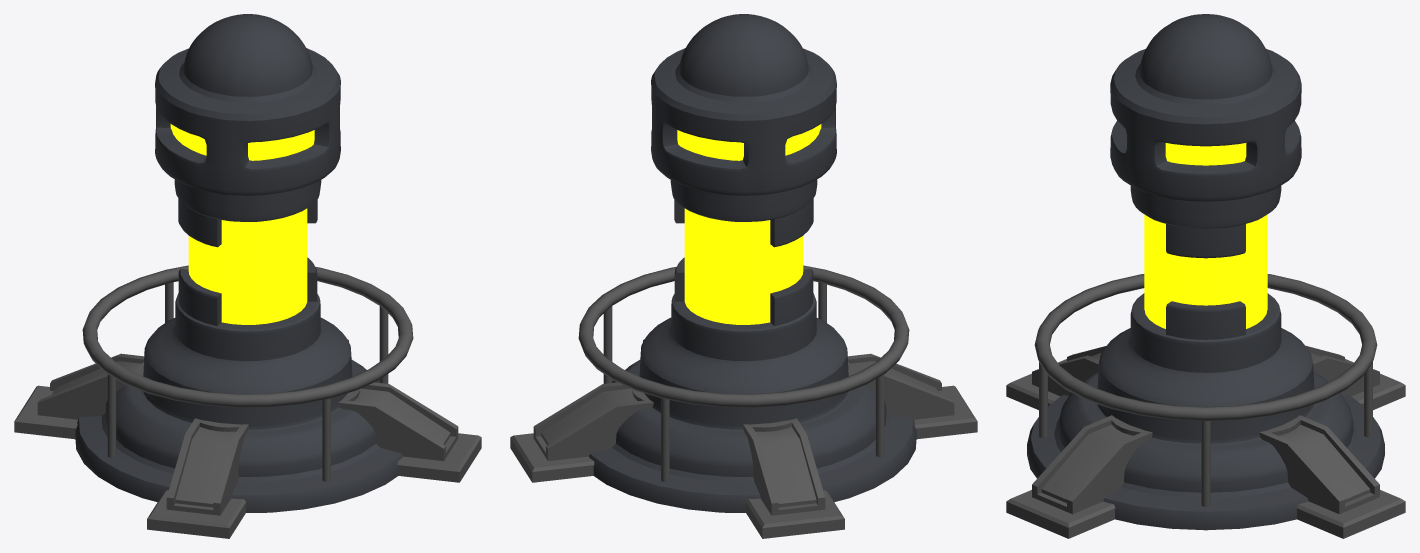
The model's file is GeoThermal.fbx.
The picture shows the model from 3 angles, left to right: view 1: azimuth 30°, elevation 25°; view 2: azimuth 150°, elevation 25°; view 3: azimuth 270°, elevation 25°; orthographic projection. The views are drawn at different scales.
Parts seen in each view (by area): view 1: Main, Supports, Emissives, Rail; view 2: Main, Supports, Emissives, Rail; view 3: Main, Supports, Rail, Emissives.
Boxes of the visible parts, x1=… form: Main: x1=75, y1=14, x2=402, y2=512; Supports: x1=14, y1=339, x2=481, y2=538; Emissives: x1=170, y1=124, x2=314, y2=324; Rail: x1=82, y1=265, x2=413, y2=481; Main: x1=589, y1=14, x2=916, y2=512; Supports: x1=510, y1=339, x2=977, y2=538; Emissives: x1=677, y1=124, x2=821, y2=324; Rail: x1=578, y1=265, x2=909, y2=481; Main: x1=1027, y1=14, x2=1384, y2=530; Supports: x1=1006, y1=345, x2=1405, y2=538; Rail: x1=1034, y1=274, x2=1377, y2=506; Emissives: x1=1144, y1=143, x2=1267, y2=328.
Bounding box in the file's own units: 7.63 × 9.14 × 7.63.
